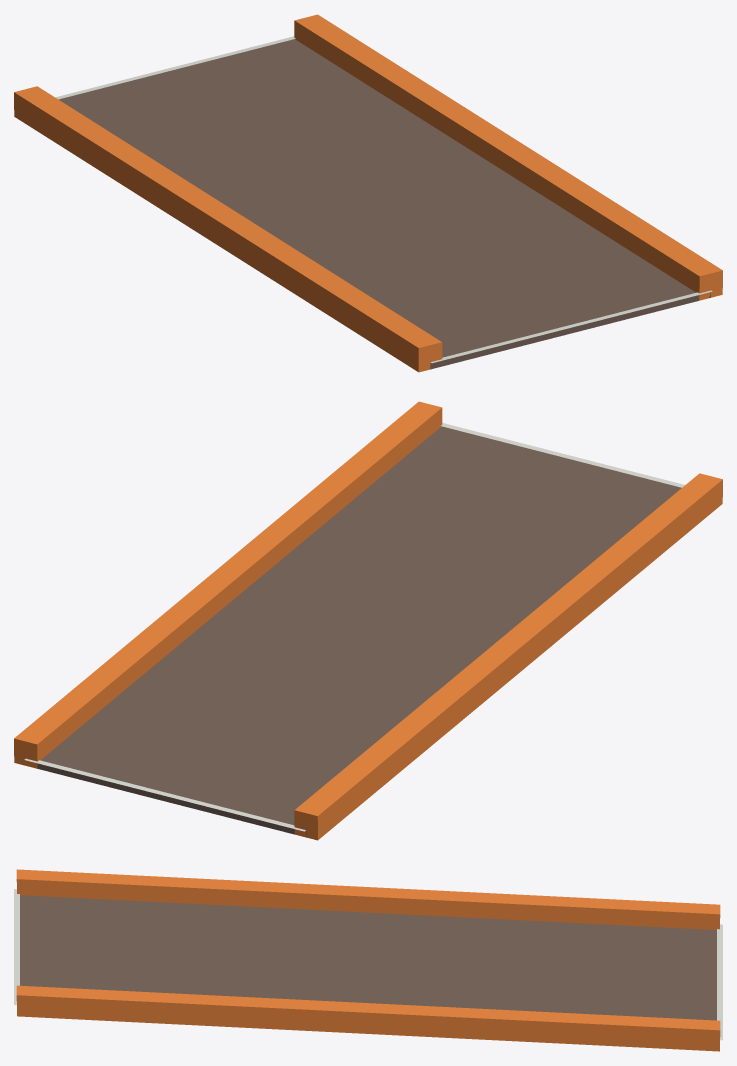
Rendered from SM_MP_Film_C_4_0.fbx.
3 views of the same model, one above another, from view 1: azimuth 30°, elevation 25°; view 2: azimuth 150°, elevation 25°; view 3: azimuth 270°, elevation 25° (orthographic). The views are drawn at different scales.
Parts seen in each view (by area): view 1: SM_MP_Film_C_4_0; view 2: SM_MP_Film_C_4_0; view 3: SM_MP_Film_C_4_0.
Part boxes in pixels (left/top/right/bottom): SM_MP_Film_C_4_0: left=14, top=14, right=722, bottom=372; SM_MP_Film_C_4_0: left=14, top=401, right=722, bottom=840; SM_MP_Film_C_4_0: left=14, top=869, right=722, bottom=1051.
Size of what is drawn, in the model's own units: 260 by 605 by 56.05.
